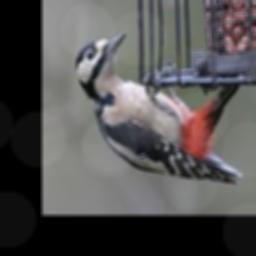Woodpecker: (75, 33, 242, 184)
